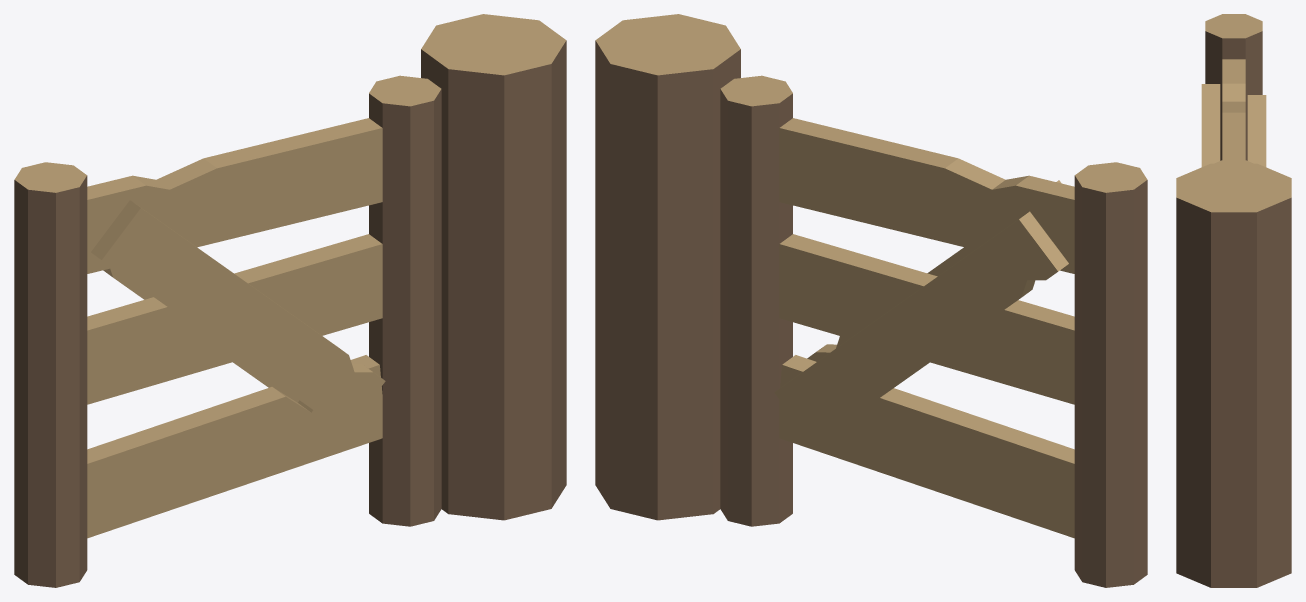
Rendered from Hilly_Prop_Fence_Gate_1.obj.
3 views of the same model, side by side, from view 1: azimuth 30°, elevation 25°; view 2: azimuth 150°, elevation 25°; view 3: azimuth 270°, elevation 25° (orthographic). The views are drawn at different scales.
Parts seen in each view (by area): view 1: object3, object5, object1, object6, object8, object4, object2, object7; view 2: object3, object5, object1, object8, object6, object7, object2, object4; view 3: object3, object5, object8, object4, object7.
Boxes of the visible parts, <box> form: object3: <box>421,14,566,520</box>; object5: <box>14,162,87,587</box>; object1: <box>369,75,441,526</box>; object6: <box>87,355,382,538</box>; object8: <box>87,118,382,273</box>; object4: <box>91,200,385,433</box>; object2: <box>87,234,382,404</box>; object7: <box>103,268,299,402</box>; object3: <box>595,14,740,520</box>; object5: <box>1074,162,1147,587</box>; object1: <box>720,75,792,526</box>; object8: <box>779,118,1074,273</box>; object6: <box>779,355,1074,538</box>; object7: <box>774,211,1068,444</box>; object2: <box>779,234,1074,404</box>; object4: <box>807,180,1061,361</box>; object3: <box>1176,163,1291,587</box>; object5: <box>1205,14,1262,160</box>; object8: <box>1222,59,1245,159</box>; object4: <box>1201,84,1220,166</box>; object7: <box>1247,95,1266,166</box>.
Size of the model in its own units: 1.12 by 0.9 by 0.25.
